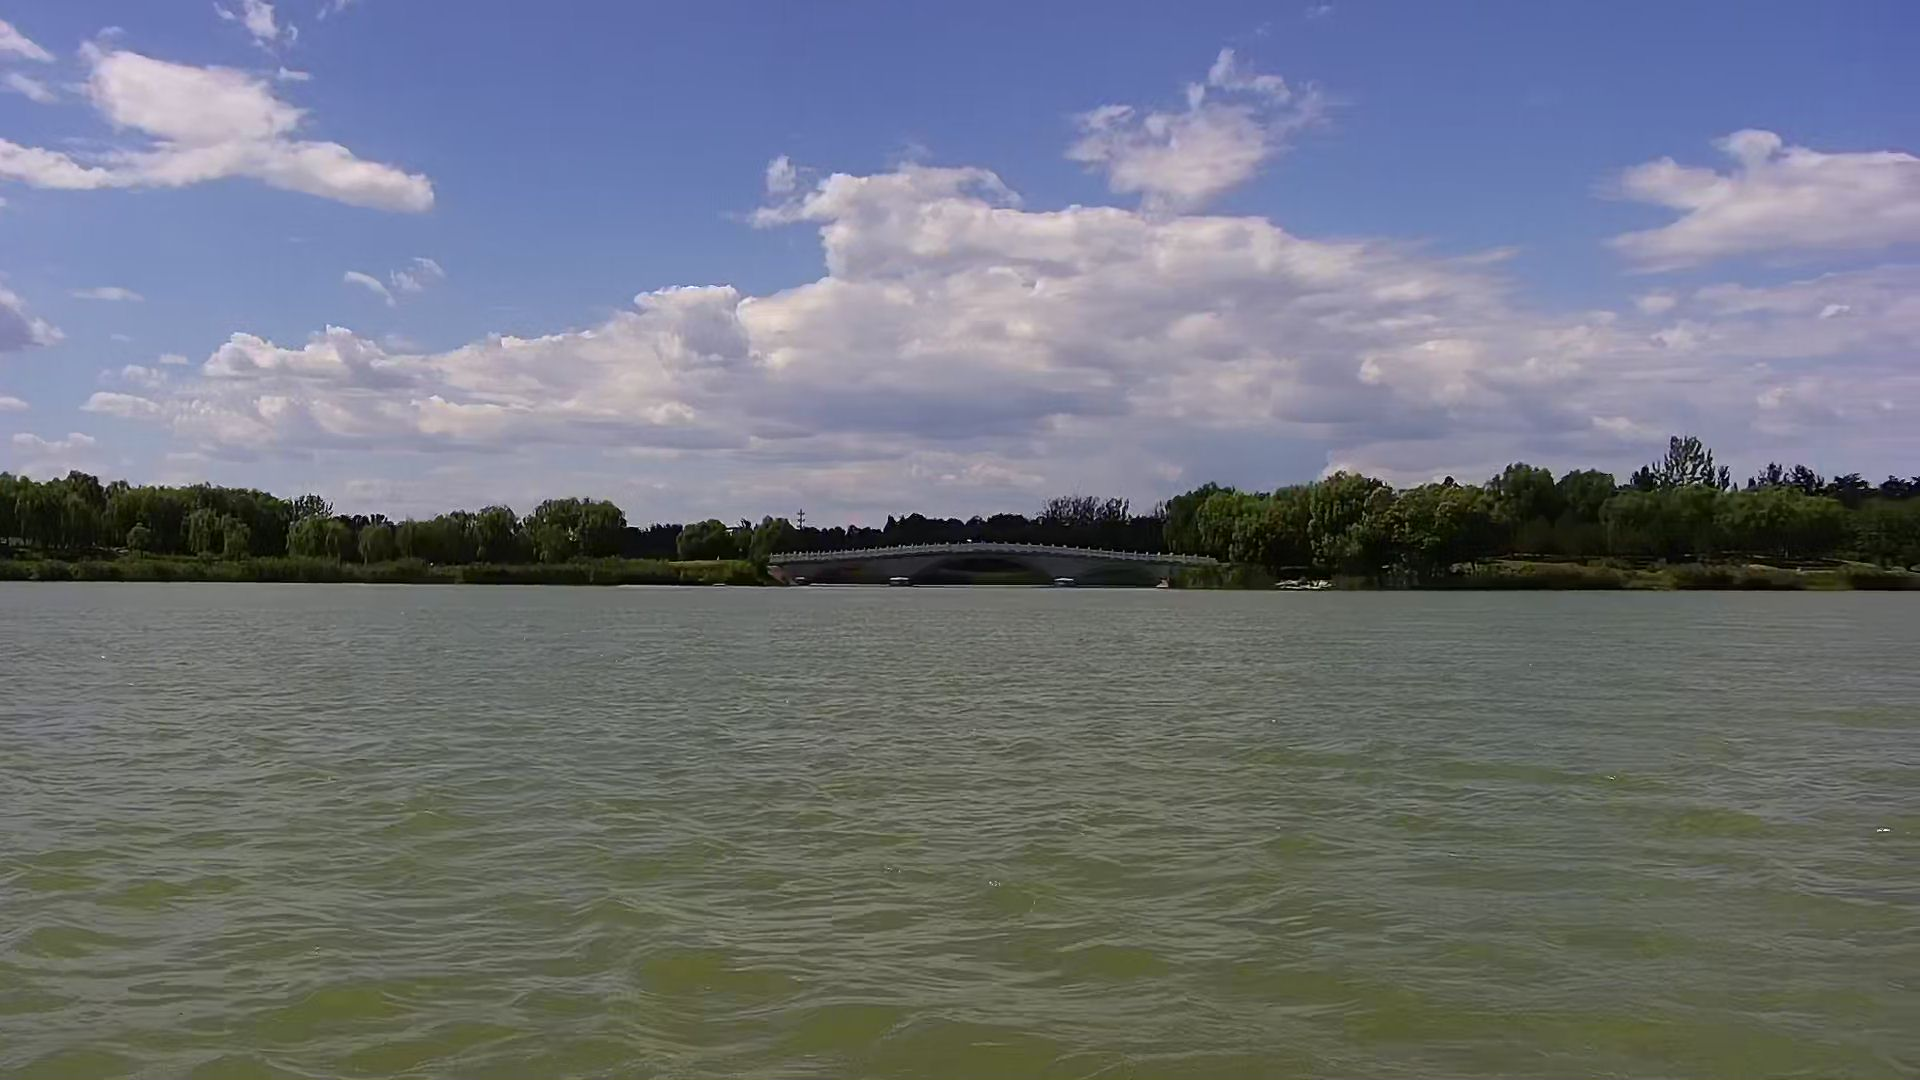bridge: (774, 539, 1218, 593)
